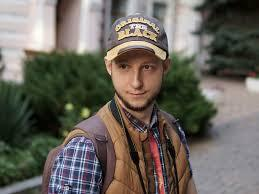cap: (105, 6, 176, 64)
